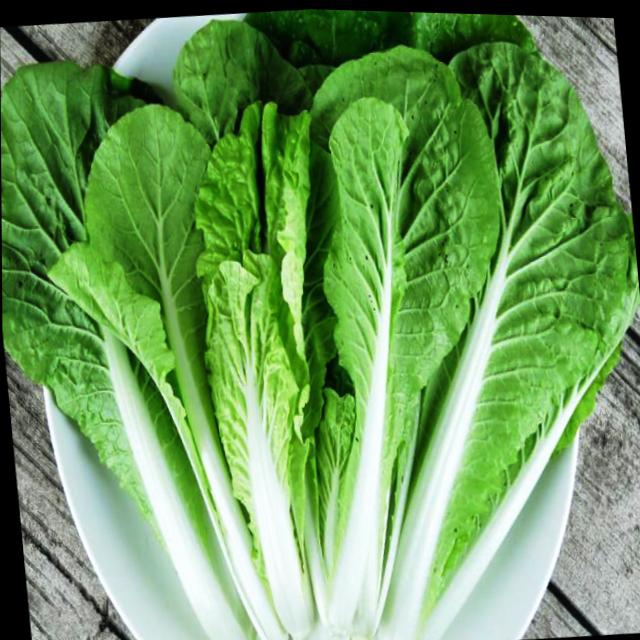chinese_cabbage: (0, 25, 637, 640)
